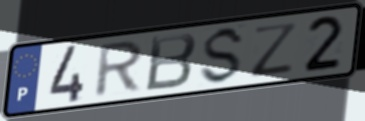2: (303, 14, 348, 74)
4: (48, 43, 86, 105)
B: (143, 31, 199, 94)
R: (91, 38, 147, 100)
S: (197, 24, 249, 87)
Z: (250, 20, 302, 79)
